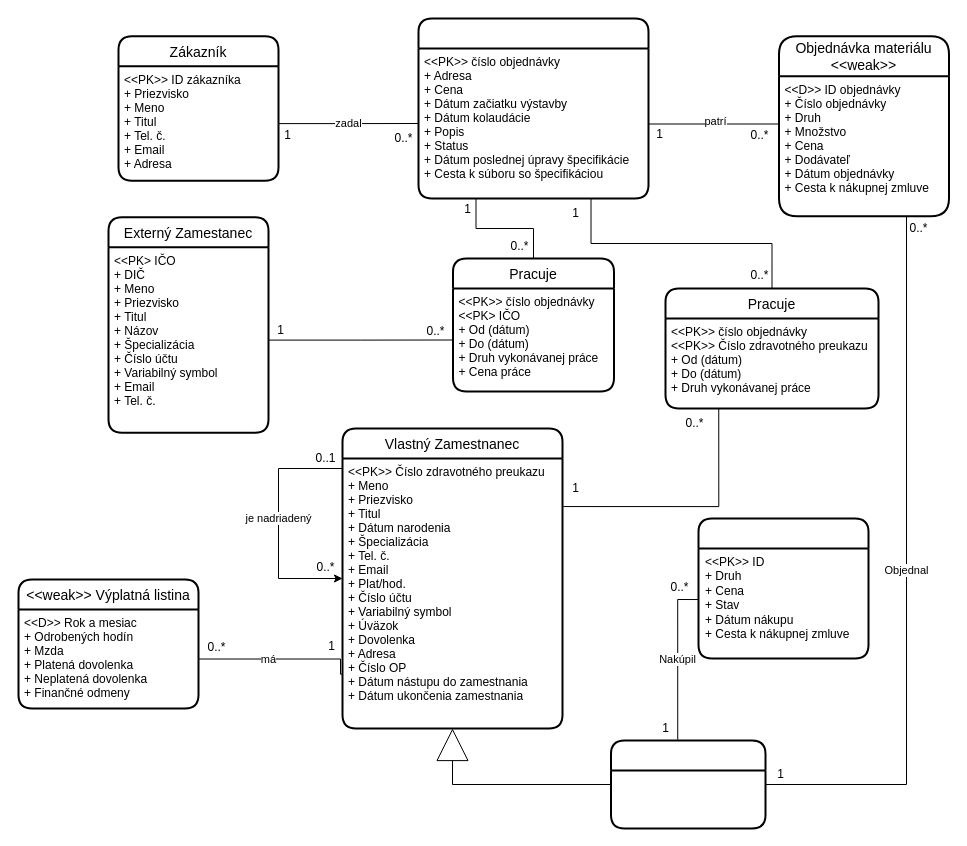
This 967x846 diagram has some shape labels left out. The box of each missing label's shape, as (x1, y1, x2, y2) in pixels:
Objednávka: (417, 17, 649, 199)
Poverený pracovník: (610, 739, 766, 829)
Pracovné vybavenie: (697, 517, 869, 659)
